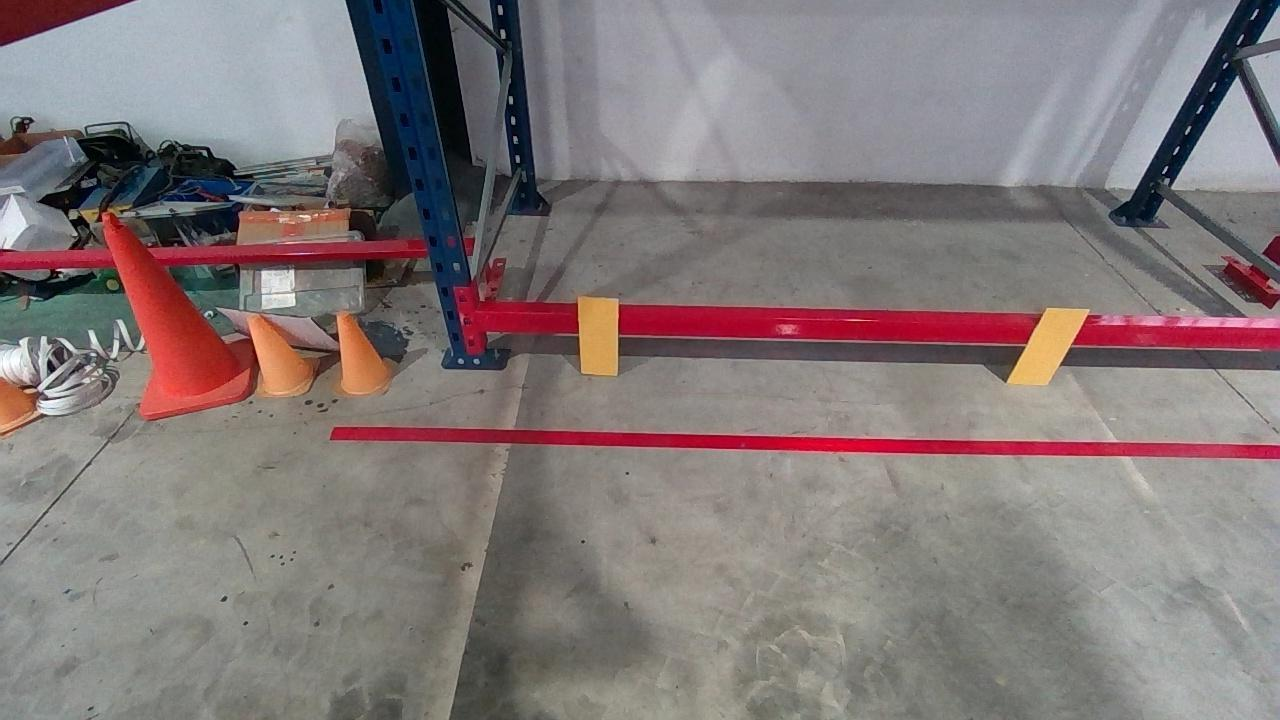h_rack: (480, 314, 1279, 349)
orange_strip: (1007, 309, 1090, 385), (578, 298, 619, 374)
red_line: (327, 426, 1275, 457)
